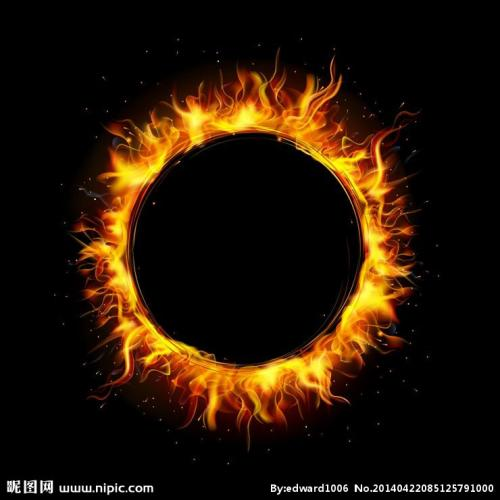fire: (183, 370, 300, 424), (275, 82, 356, 145), (162, 109, 268, 130)
